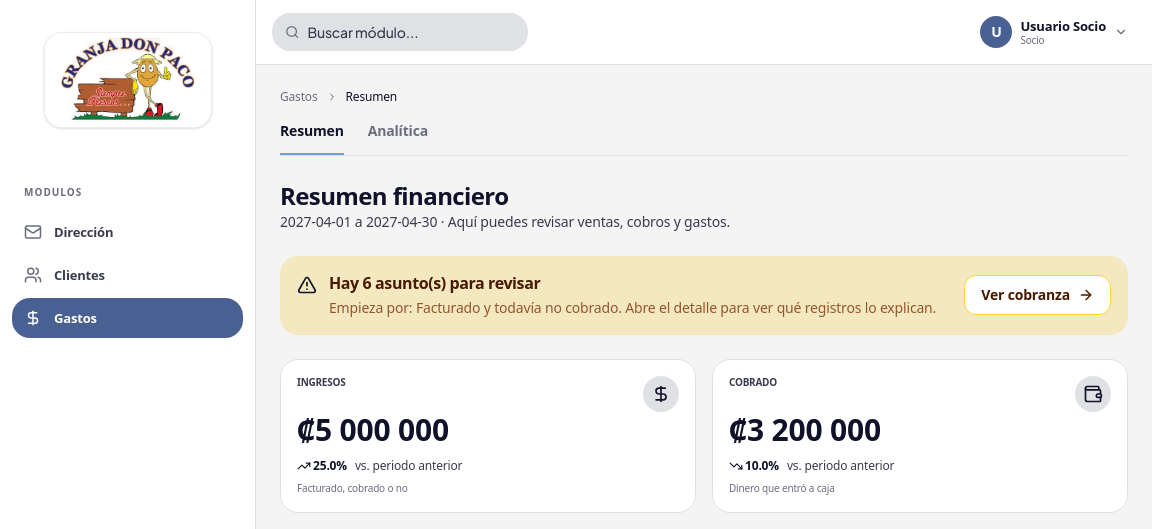
lo que aportaba el Centro de Mando vive en Resumen › el Socio ve Resumen con la columna derecha
Click the button "Gastos" below "Modulos".
click(128, 318)  # box [12, 298, 243, 338]
(page scrolled)
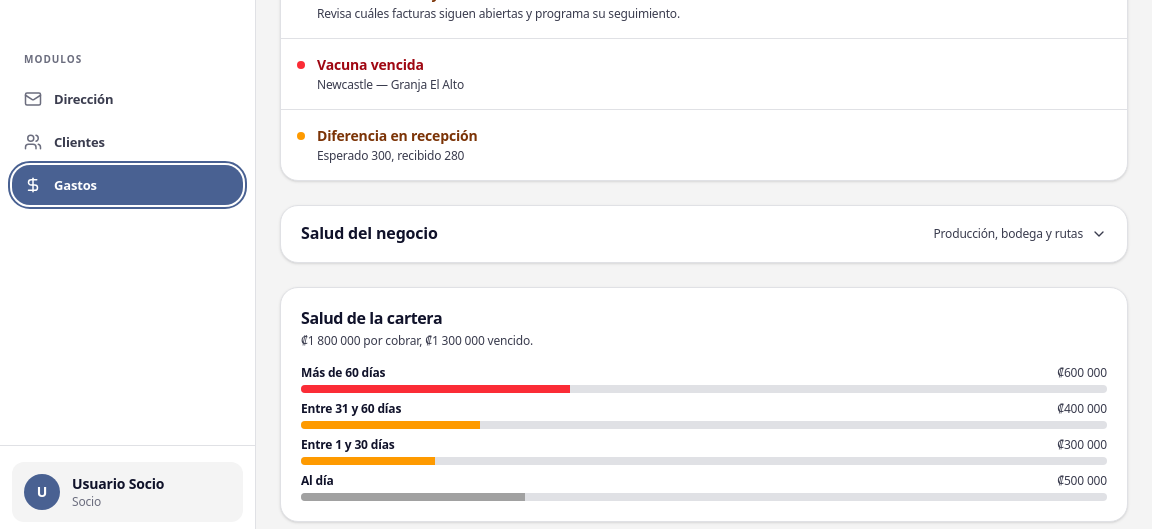
Result: the element with test id "finanzas-salud-negocio" is shown at [280, 205, 1128, 263]
Result: the list with test id "finanzas-aging" is shown at [301, 365, 1107, 501]
